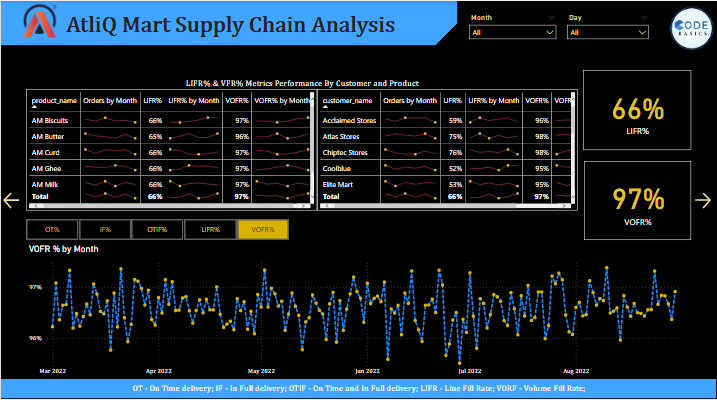

This screenshot's page, from the dashboard's own definition file:
{"tool":"powerbi","page":{"name":"LOFR page","canvas":[1350,750],"ordinal":1},"visuals":[{"type":"shape","box":[0,0,860.9,84.4],"z":0},{"type":"slicer","fields":{"Values":["dim_date.date.Variation.Date Hierarchy.Month"]},"box":[873.4,17.2,184.3,55.7],"z":0,"group":"g1"},{"type":"slicer","fields":{"Values":["dim_date.date.Variation.Date Hierarchy.Day"]},"box":[1057.7,17.2,174.3,55.7],"z":1000,"group":"g1"},{"type":"textbox","box":[117,16.5,643.5,67.5],"z":1000},{"type":"image","box":[0,0,147,73.5],"z":2000},{"type":"actionButton","box":[1302.9,355.7,47.1,40],"z":3000},{"type":"group","id":"g1","title":"Group 5","box":[873.4,17.2,357.8,56.2],"z":4000},{"type":"image","box":[1253.1,0,96.9,101.6],"z":5000},{"type":"actionButton","box":[0,355.8,47.2,39.9],"z":6000},{"type":"pivotTable","fields":{"Rows":["dim_products.product_name"],"Values":["SparklineData(base_measures.Total_Ordered_qty_[dim_date.date.Variation.Date Hierarchy.Month])","base_measures.LIFR%","SparklineData(base_measures.LIFR%_[dim_date.date.Variation.Date Hierarchy.Month])","base_measures.VOFR%","SparklineData(base_measures.VOFR%_[dim_date.date.Variation.Date Hierarchy.Month])"]},"box":[47.2,166.8,549.2,228.8],"z":7000},{"type":"shape","box":[0,713.1,1349.4,36.9],"z":8000},{"type":"pivotTable","fields":{"Values":["SparklineData(base_measures.Total_Ordered_qty_[dim_date.date.Variation.Date Hierarchy.Month])","base_measures.LIFR%","SparklineData(base_measures.LIFR%_[dim_date.date.Variation.Date Hierarchy.Month])","base_measures.VOFR%","SparklineData(base_measures.VOFR%_[dim_date.date.Variation.Date Hierarchy.Month])"],"Rows":["dim_customers.customer_name"]},"box":[596.5,166.8,491.6,228.8],"z":9000},{"type":"card","fields":{"Values":["base_measures.LIFR%"]},"box":[1097.3,130.1,203.6,150.8],"z":10000},{"type":"card","fields":{"Values":["base_measures.VOFR%"]},"box":[1099.9,301.2,202.3,149.1],"z":11000},{"type":"actionButton","box":[46.9,410.9,99.1,39.7],"z":14000},{"type":"actionButton","box":[146.2,410.4,98.9,39.9],"z":15000},{"type":"actionButton","box":[245.1,410.4,98.9,39.9],"z":16000},{"type":"actionButton","box":[345,411,99.9,39.6],"z":18000},{"type":"shape","box":[47.2,127,1040.8,39.9],"z":19000},{"type":"lineChart","title":"VOFR % by Month","fields":{"Category":["dim_date.date Hierarchy.Month"],"Y":["base_measures.VOFR%"]},"box":[47.5,458.7,1254.9,254.3],"z":22000},{"type":"actionButton","box":[445,411,98,39.6],"z":27500}]}

Visuals, with their boxes in screenshot pixels (x1, y1, x2, y2), scaled from the page's 1350x750 canvas onto the 717x400 screenshot:
shape: rect(0, 0, 457, 45)
slicer - dim_date.date.Variation.Date Hierarchy.Month: rect(464, 9, 562, 39)
slicer - dim_date.date.Variation.Date Hierarchy.Day: rect(562, 9, 654, 39)
textbox: rect(62, 9, 404, 45)
image: rect(0, 0, 78, 39)
actionButton: rect(692, 190, 716, 211)
"Group 5" group: rect(464, 9, 654, 39)
image: rect(666, 0, 716, 54)
actionButton: rect(0, 190, 25, 211)
pivotTable - dim_products.product_name x SparklineData(base_measures.Total_Ordered_qty_[dim_date.date.Variation.Date Hierarchy.Month]): rect(25, 89, 317, 211)
shape: rect(0, 380, 716, 399)
pivotTable - SparklineData(base_measures.Total_Ordered_qty_[dim_date.date.Variation.Date Hierarchy.Month]) x base_measures.LIFR%: rect(317, 89, 578, 211)
card - base_measures.LIFR%: rect(583, 69, 691, 150)
card - base_measures.VOFR%: rect(584, 161, 692, 240)
actionButton: rect(25, 219, 78, 240)
actionButton: rect(78, 219, 130, 240)
actionButton: rect(130, 219, 183, 240)
actionButton: rect(183, 219, 236, 240)
shape: rect(25, 68, 578, 89)
"VOFR % by Month" lineChart: rect(25, 245, 692, 380)
actionButton: rect(236, 219, 288, 240)
